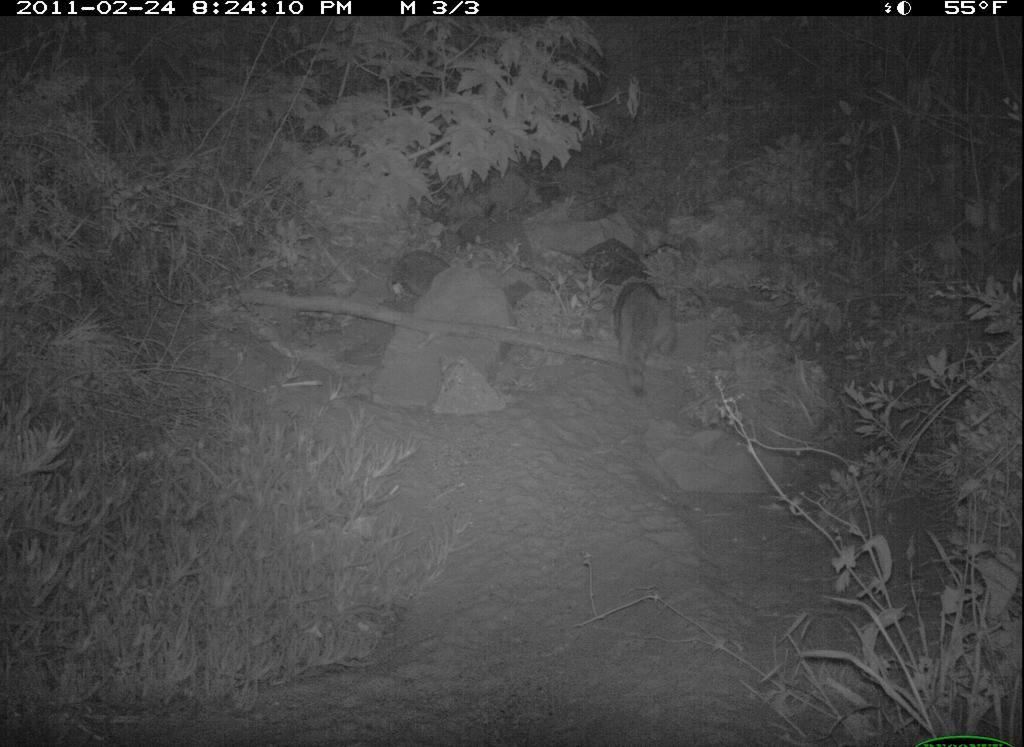raccoon: (610, 265, 687, 401)
